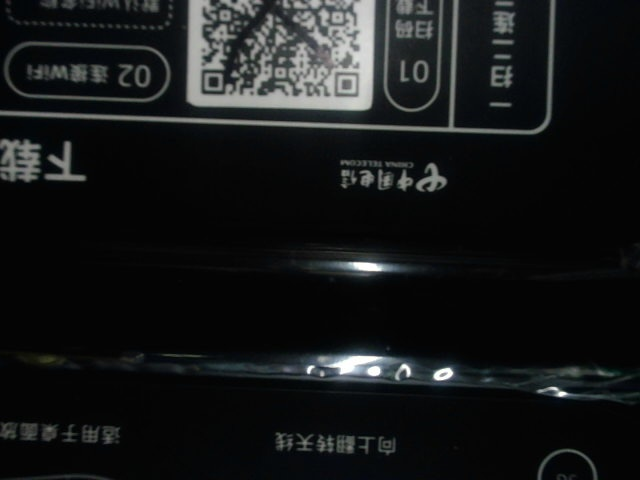AB_ChinaTelecom: (331, 153, 455, 196)
